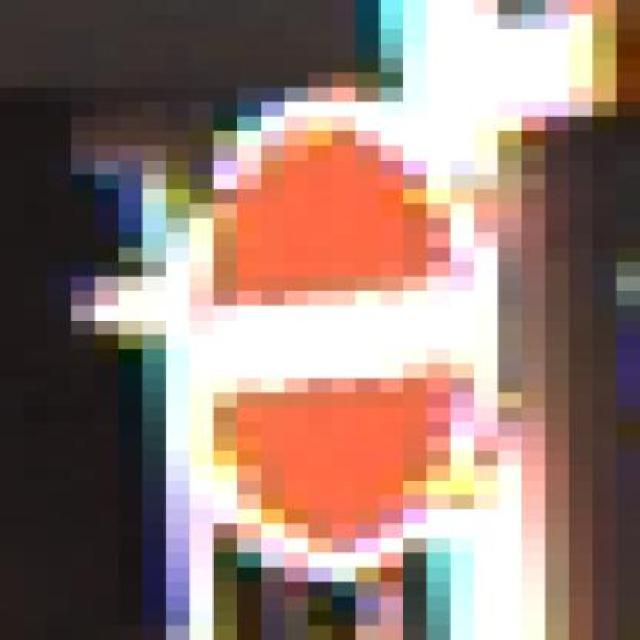B2: (193, 90, 471, 580)
